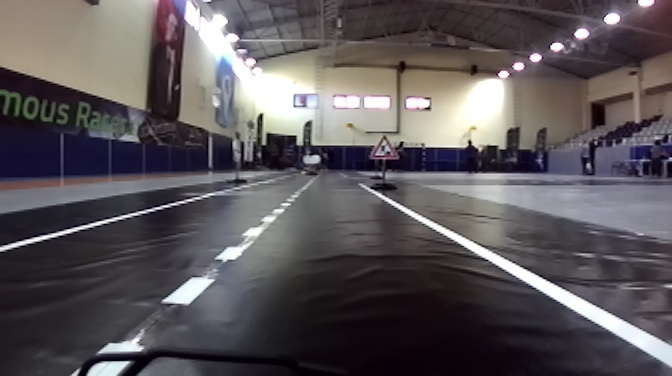yol_yapimi: (368, 131, 399, 163)
